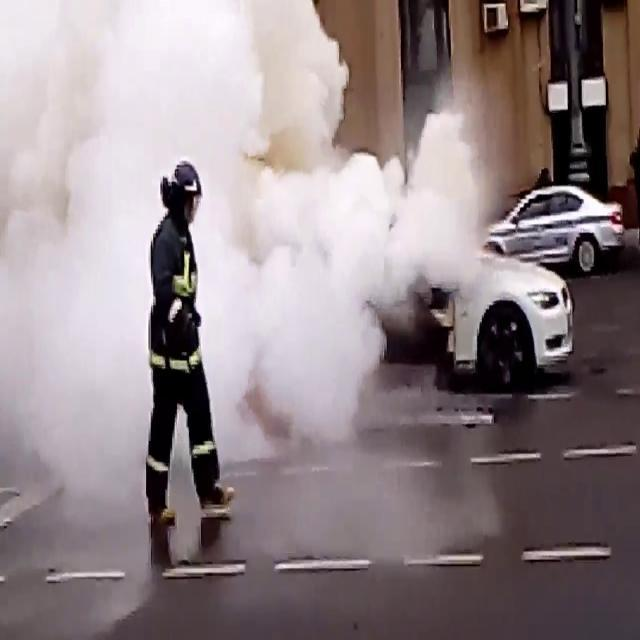Smoke: (0, 0, 493, 477)
